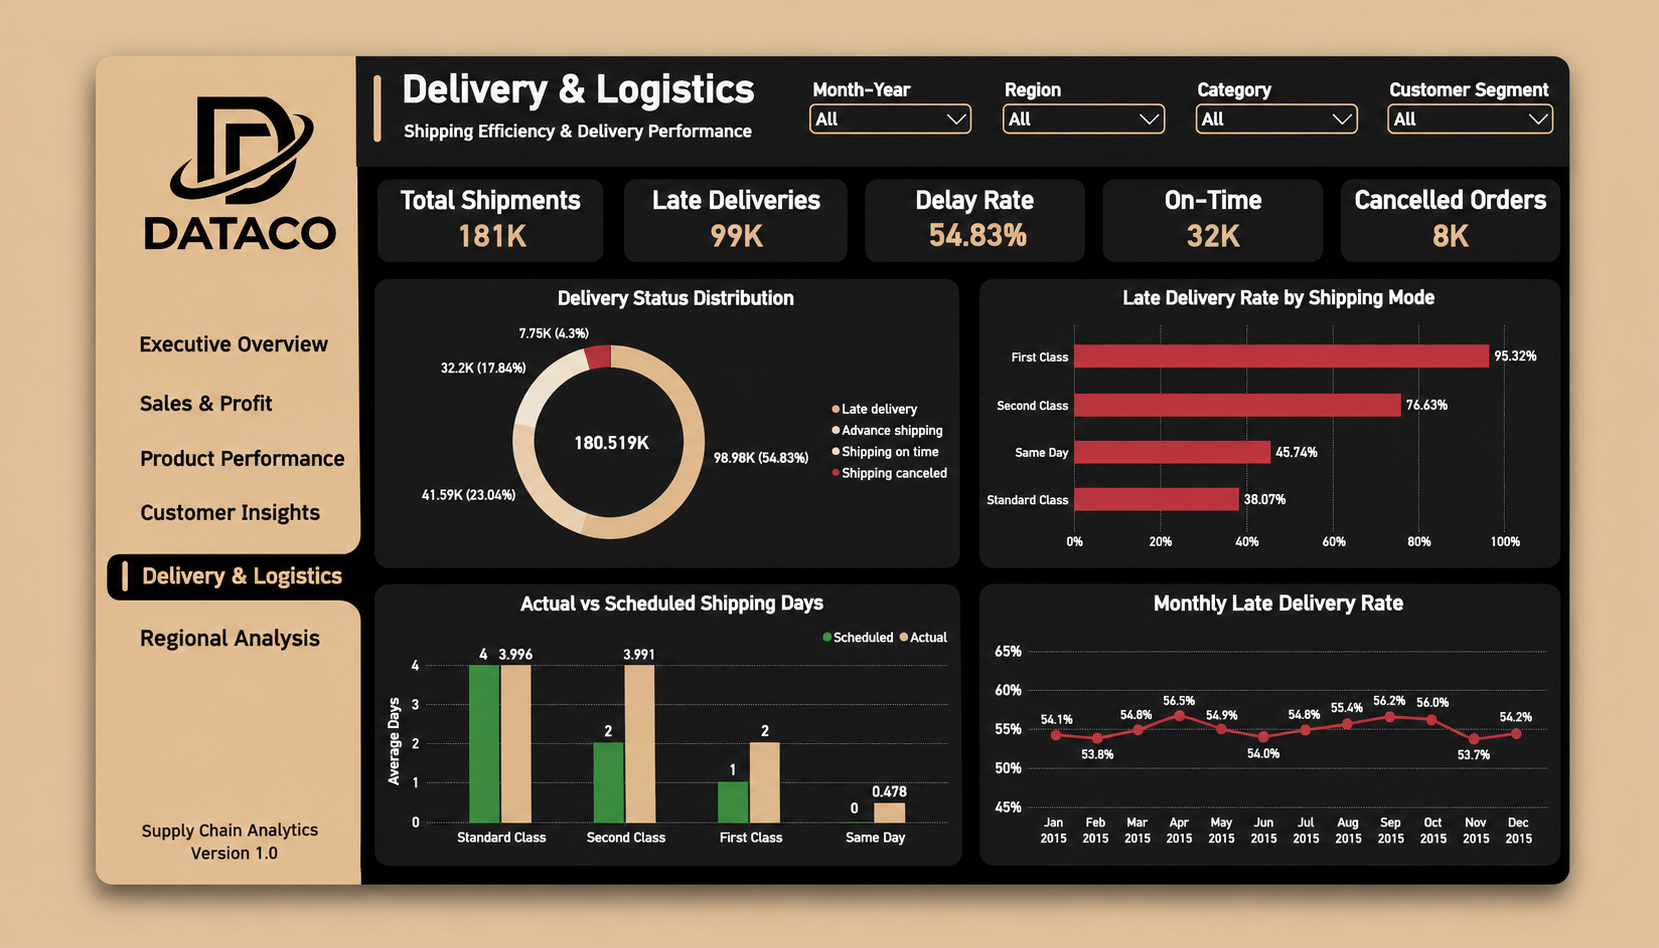

Layout of this report page (visuals, bound fields, positions):
{"tool":"powerbi","page":{"name":"Delivery & Logistics","canvas":[2560,1440],"ordinal":4},"visuals":[{"type":"shape","box":[0,0,520,1440],"z":0},{"type":"image","box":[34.2,63.2,450,294.7],"z":1000},{"type":"shape","box":[25.8,888.3,499.2,80],"z":2000},{"type":"textbox","box":[81.6,478.9,371.1,68.4],"z":3000},{"type":"textbox","box":[81.9,583.8,371.1,68.7],"z":4000},{"type":"textbox","box":[81.9,688.8,386.7,68.7],"z":5000},{"type":"textbox","box":[81.9,793.9,372.3,69.9],"z":6000},{"type":"textbox","box":[81.9,900.2,372.3,68.7],"z":7000},{"type":"textbox","box":[81.6,1005.3,371.1,68.4],"z":8000},{"type":"textbox","box":[101.8,1346.4,304.5,43.6],"z":9000},{"type":"textbox","box":[172.7,1387.3,157.3,50],"z":10000},{"type":"actionButton","box":[74.6,583.1,255.9,61],"z":11000},{"type":"actionButton","box":[78,678,376.2,71.4],"z":12000},{"type":"actionButton","box":[81.4,779.7,344.4,71.4],"z":13000},{"type":"actionButton","box":[70.8,779.2,335,71.7],"z":14000},{"type":"actionButton","box":[72.9,1001.7,352.4,71.4],"z":15000},{"type":"shape","box":[50,898.3,11.7,56.7],"z":16000},{"type":"actionButton","box":[78.3,470.8,346.7,60.8],"z":17000},{"type":"image","box":[438.9,850,130,48.9],"z":18000},{"type":"image","box":[440,958.2,130,48.2],"z":19000},{"type":"shape","box":[520,0,2040,192.5],"z":20000},{"type":"shape","box":[520,10,2040,192.5],"z":21000},{"type":"textbox","box":[602.9,32.9,590,212.9],"z":22000},{"type":"textbox","box":[604.9,117.1,641.5,53.7],"z":23000},{"type":"shape","box":[553.3,38.9,16.7,115.6],"z":24000},{"type":"shape","box":[2251,87,282,52],"z":25000},{"type":"shape","box":[1921.4,86.4,277.9,52.1],"z":26000},{"type":"shape","box":[1591.4,86.4,277.9,52.1],"z":27000},{"type":"shape","box":[1260.8,87.5,277.5,52.5],"z":28000},{"type":"slicer","fields":{"Values":["supply_chain_ops dataco_cleaned.Customer Segment"]},"box":[2249,50,284,324],"z":29000},{"type":"slicer","fields":{"Values":["supply_chain_ops dataco_cleaned.Category Name"]},"box":[1920,48.8,280,322],"z":30000},{"type":"slicer","fields":{"Values":["supply_chain_ops dataco_cleaned.Order Region"]},"box":[1590,48.8,280,322],"z":31000},{"type":"slicer","fields":{"Values":["supply_chain_ops dataco_cleaned.Month-Year"]},"box":[1260,50,280,320],"z":32000},{"type":"cardVisual","fields":{"Data":["MeasureTable.Total Shipments"]},"box":[550,230,370,130],"z":33000},{"type":"cardVisual","fields":{"Data":["MeasureTable.Late Deliveries"]},"box":[953.1,228.8,370,130],"z":34000},{"type":"cardVisual","fields":{"Data":["MeasureTable.Late Delivery Rate"]},"box":[1356.2,228.8,370,130],"z":35000},{"type":"cardVisual","fields":{"Data":["MeasureTable.On-Time Deliveries"]},"box":[1759.4,228.8,370,130],"z":36000},{"type":"cardVisual","fields":{"Data":["MeasureTable.Cancelled Shipments"]},"box":[2162.5,227.5,370,130],"z":37000},{"type":"donutChart","title":"Delivery Status Distribution","fields":{"Category":["supply_chain_ops dataco_cleaned.Delivery Status"],"Y":["CountNonNull(supply_chain_ops dataco_cleaned.Delivery Status)"]},"box":[555,400,952.5,497.5],"z":38000},{"type":"barChart","fields":{"Category":["supply_chain_ops dataco_cleaned.Shipping Mode"],"Y":["MeasureTable.Late Delivery Rate"]},"box":[1565,400,967.5,500],"z":39000},{"type":"clusteredColumnChart","title":"Actual vs Scheduled Shipping Days","fields":{"Category":["supply_chain_ops dataco_cleaned.Shipping Mode"],"Y":["Avg(supply_chain_ops dataco_cleaned.Days for shipment (scheduled))","Avg(supply_chain_ops dataco_cleaned.Days for shipping (real))"]},"box":[550,927.5,957.5,477.5],"z":40000},{"type":"lineChart","title":"Monthly Late Delivery Rate","fields":{"Category":["supply_chain_ops dataco_cleaned.Month-Year"],"Y":["MeasureTable.Late Delivery Rate"]},"box":[1565,935,967.5,470],"z":41000},{"type":"shape","box":[1610,1375,902.5,22.5],"z":42000}]}

Visuals, with their boxes in screenshot pixels (x1, y1, x2, y2), scaled from the page's 2560x1440 canvas onto the 1659x948 screenshot:
shape: [0, 0, 337, 947]
image: [22, 42, 314, 236]
shape: [17, 585, 340, 637]
textbox: [53, 315, 293, 360]
textbox: [53, 384, 294, 430]
textbox: [53, 453, 304, 499]
textbox: [53, 523, 294, 569]
textbox: [53, 593, 294, 638]
textbox: [53, 662, 293, 707]
textbox: [66, 886, 263, 915]
textbox: [112, 913, 214, 946]
actionButton: [48, 384, 214, 424]
actionButton: [51, 446, 294, 493]
actionButton: [53, 513, 276, 560]
actionButton: [46, 513, 263, 560]
actionButton: [47, 659, 276, 706]
shape: [32, 591, 40, 629]
actionButton: [51, 310, 275, 350]
image: [284, 560, 369, 592]
image: [285, 631, 369, 663]
shape: [337, 0, 1658, 127]
shape: [337, 7, 1658, 133]
textbox: [391, 22, 773, 162]
textbox: [392, 77, 808, 112]
shape: [359, 26, 369, 102]
shape: [1459, 57, 1642, 92]
shape: [1245, 57, 1425, 91]
shape: [1031, 57, 1211, 91]
shape: [817, 58, 997, 92]
slicer - supply_chain_ops dataco_cleaned.Customer Segment: [1457, 33, 1642, 246]
slicer - supply_chain_ops dataco_cleaned.Category Name: [1244, 32, 1426, 244]
slicer - supply_chain_ops dataco_cleaned.Order Region: [1030, 32, 1212, 244]
slicer - supply_chain_ops dataco_cleaned.Month-Year: [817, 33, 998, 244]
cardVisual - MeasureTable.Total Shipments: [356, 151, 596, 237]
cardVisual - MeasureTable.Late Deliveries: [618, 151, 857, 236]
cardVisual - MeasureTable.Late Delivery Rate: [879, 151, 1119, 236]
cardVisual - MeasureTable.On-Time Deliveries: [1140, 151, 1380, 236]
cardVisual - MeasureTable.Cancelled Shipments: [1401, 150, 1641, 235]
"Delivery Status Distribution" donutChart: [360, 263, 977, 591]
barChart - supply_chain_ops dataco_cleaned.Shipping Mode x MeasureTable.Late Delivery Rate: [1014, 263, 1641, 592]
"Actual vs Scheduled Shipping Days" clusteredColumnChart: [356, 611, 977, 925]
"Monthly Late Delivery Rate" lineChart: [1014, 616, 1641, 925]
shape: [1043, 905, 1628, 920]
